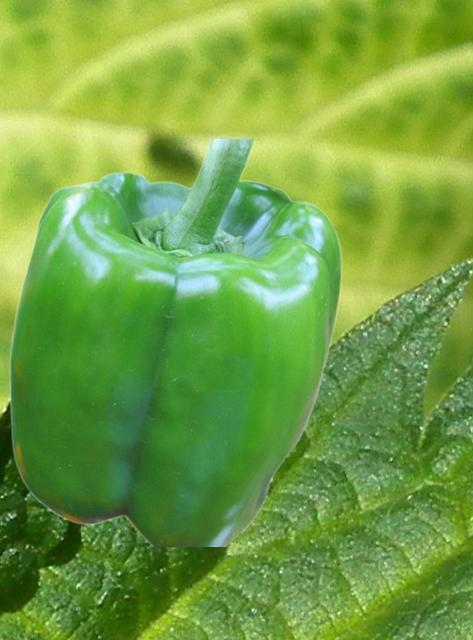bell_pepper: (8, 139, 341, 545)
